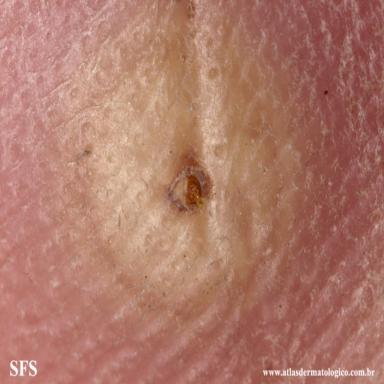Tungiasis: (85, 39, 297, 311)
